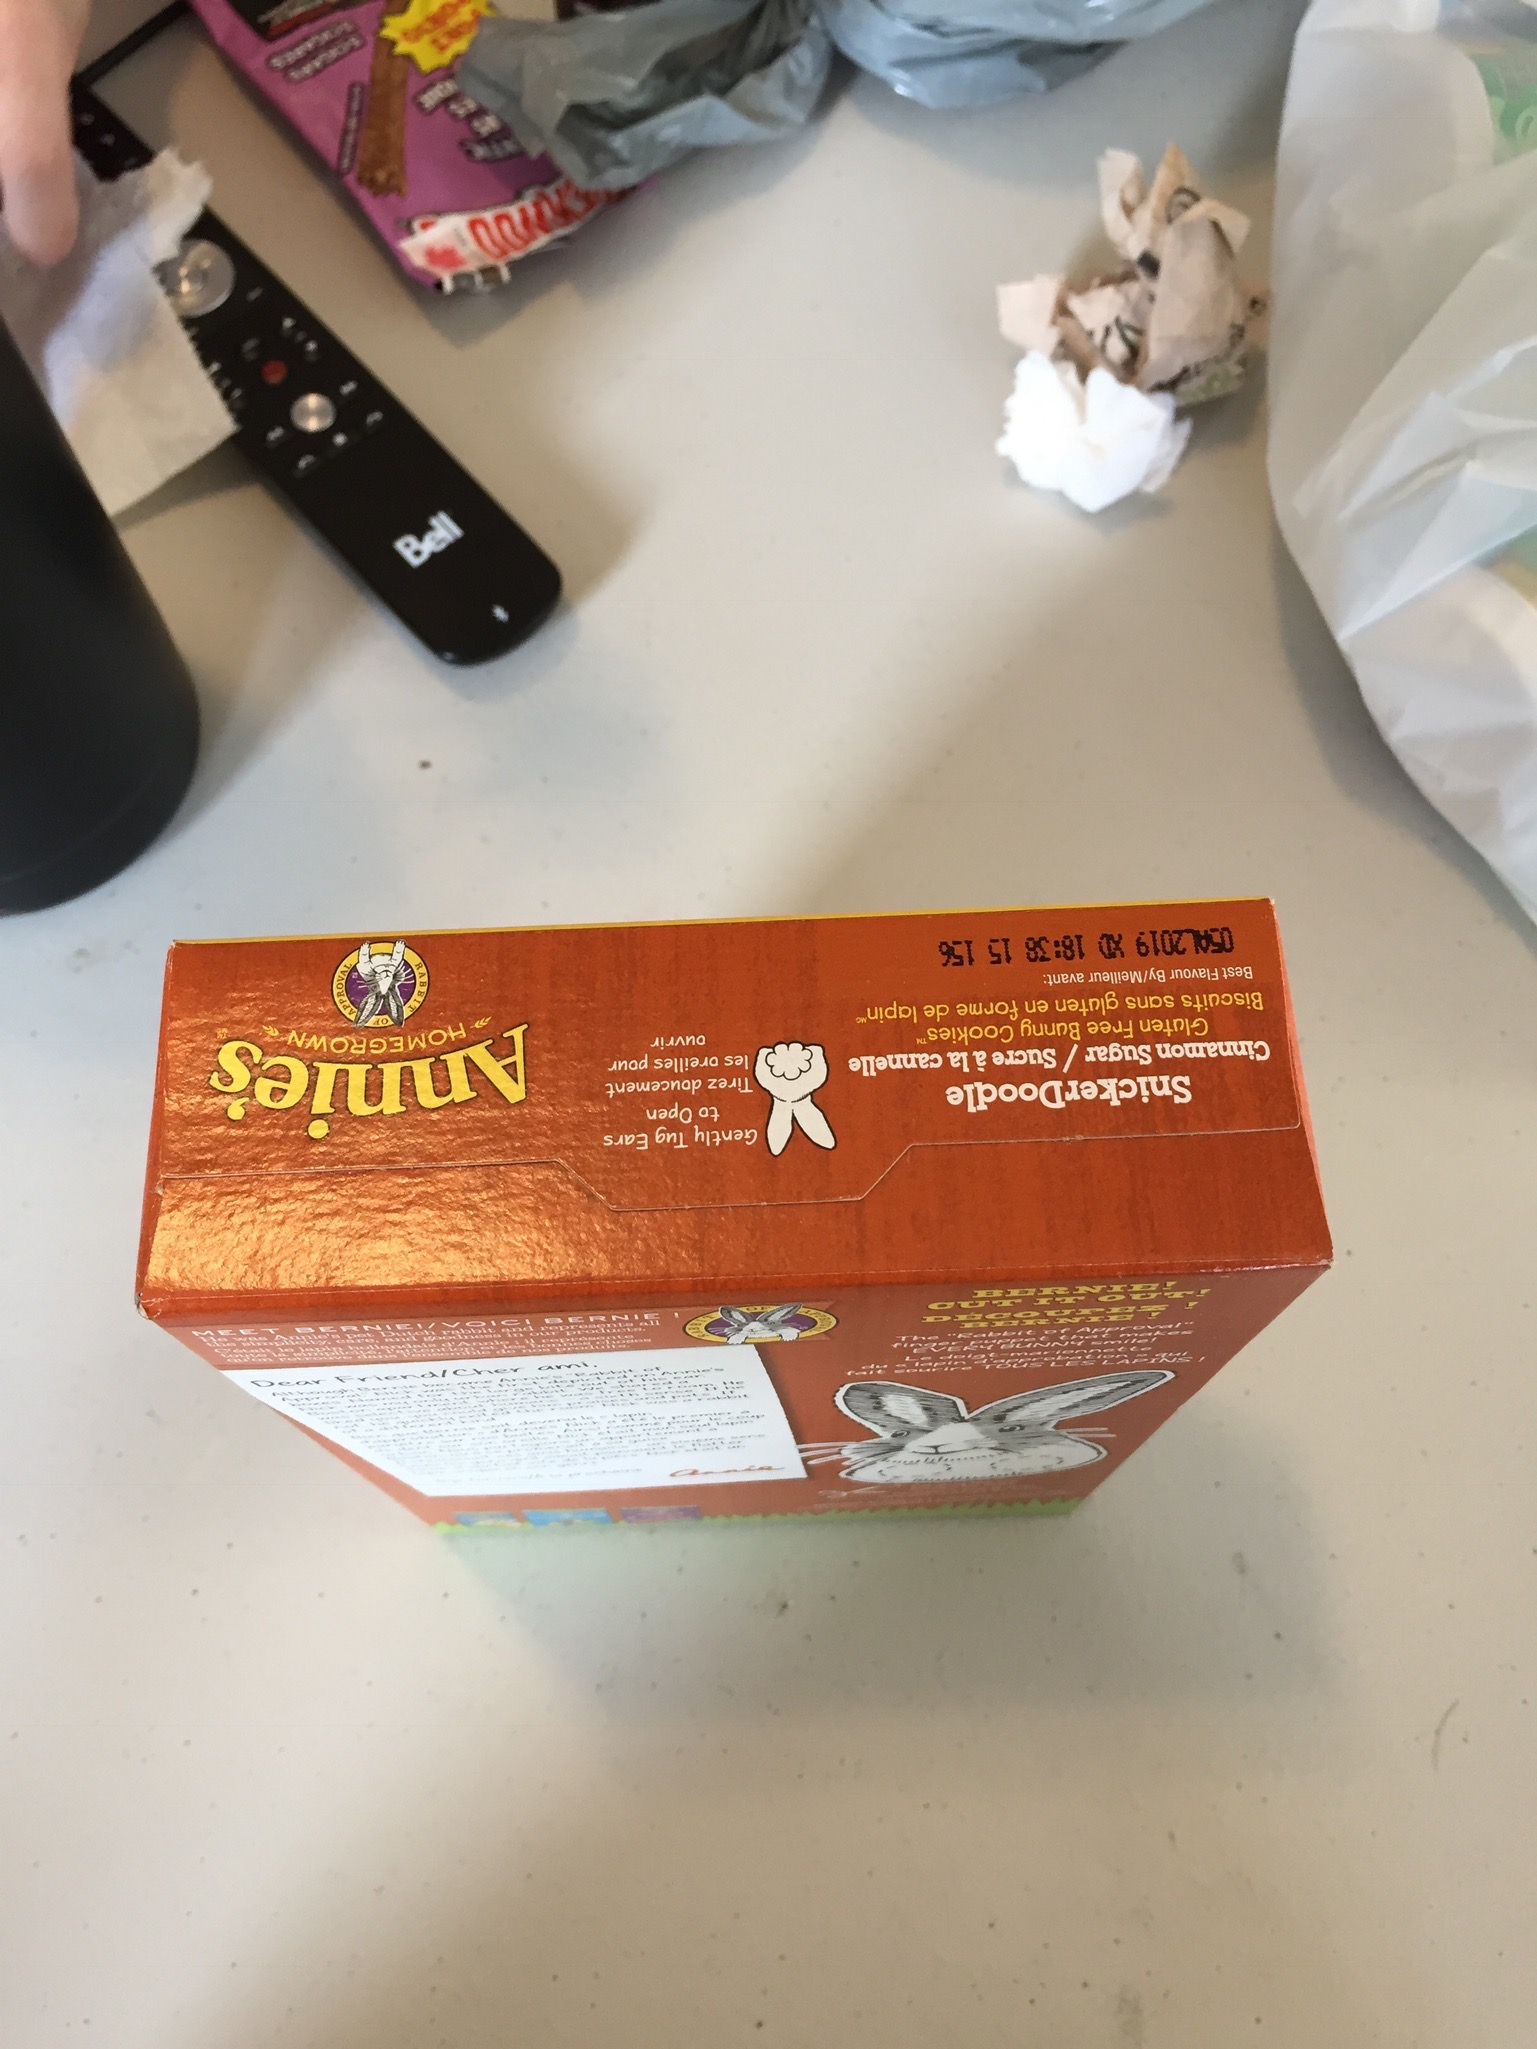annies_snickerdoodle_cinnamon_sugar: (178, 946, 1293, 1247)
